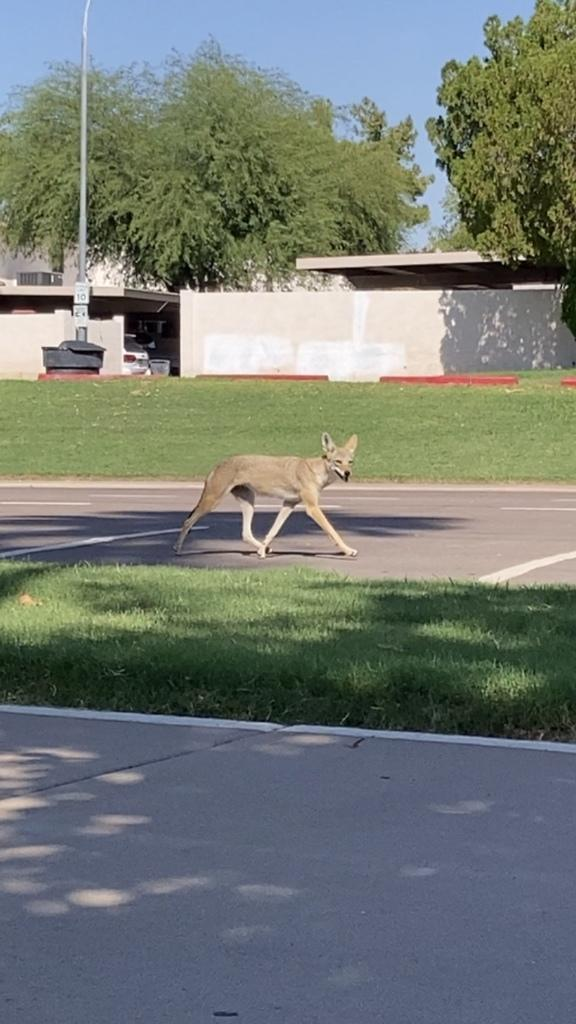Coyote: (169, 423, 364, 570)
